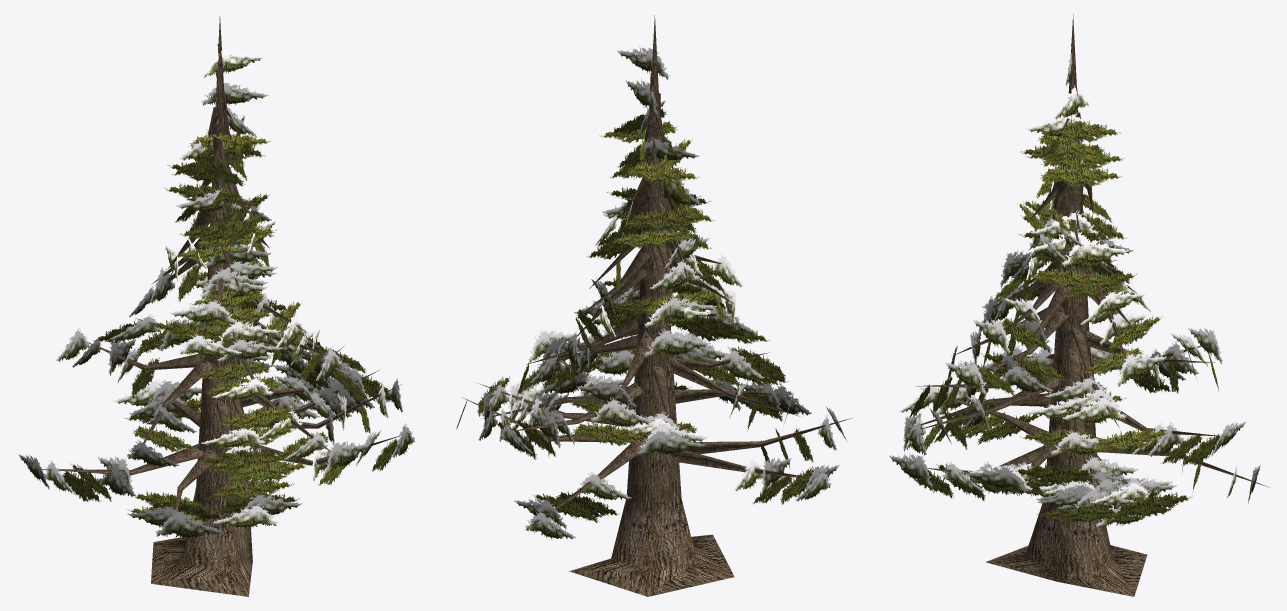
Rendered from snowpinewithsnow1.fbx.
3 renders of one model, left to right at view 1: azimuth 30°, elevation 25°; view 2: azimuth 150°, elevation 25°; view 3: azimuth 270°, elevation 25°, orthographic.
Visible parts, largest first — view 1: snowpinewithsnow1_LOD0; view 2: snowpinewithsnow1_LOD0; view 3: snowpinewithsnow1_LOD0.
Boxes of the visible parts, left/top/right/bottom form: snowpinewithsnow1_LOD0: left=18, top=16, right=414, bottom=596; snowpinewithsnow1_LOD0: left=456, top=15, right=852, bottom=596; snowpinewithsnow1_LOD0: left=889, top=14, right=1269, bottom=596.
Size of what is drawn, in the model's own units: 289 by 430 by 273.
2 materials, 2 textured.
